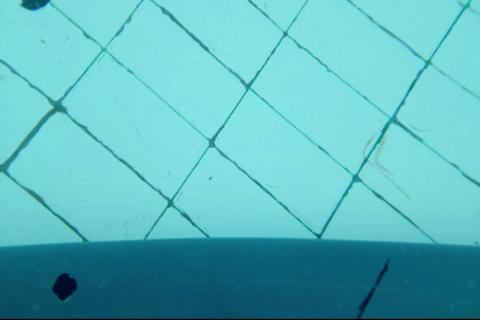kebocoran: (50, 270, 77, 303)
keretakan: (357, 257, 393, 320)
